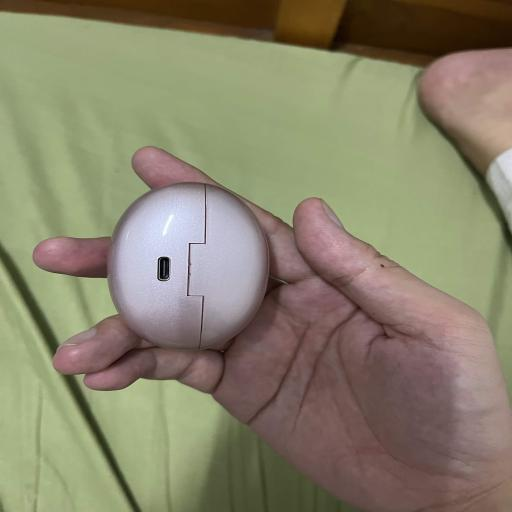GOOJODOQ: (108, 183, 269, 350)
